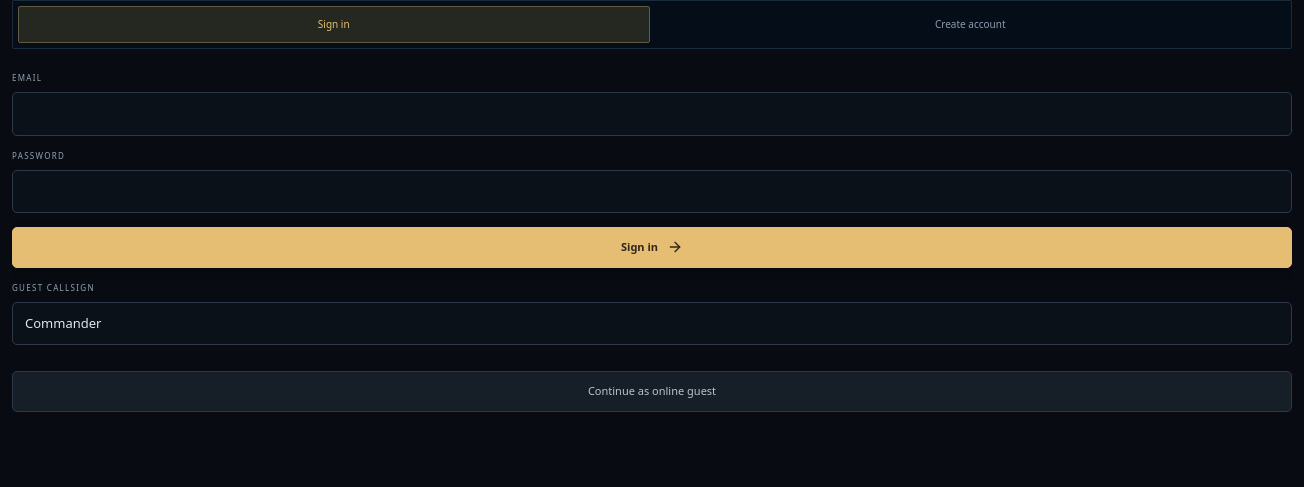
Test: does not show an unverified registration as a signed-in account
Click the button "Create account". click: [970, 24]
box: [654,6,1286,43]
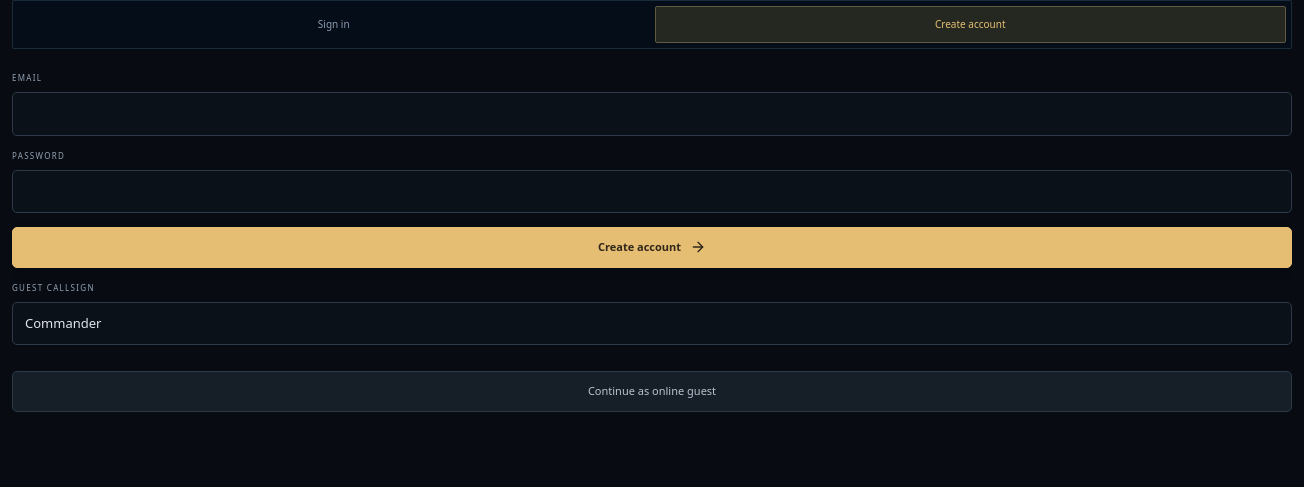
Type "qa@example.com" into the field labelled "EMAIL". click: [652, 114]
box: [12,92,1292,136]
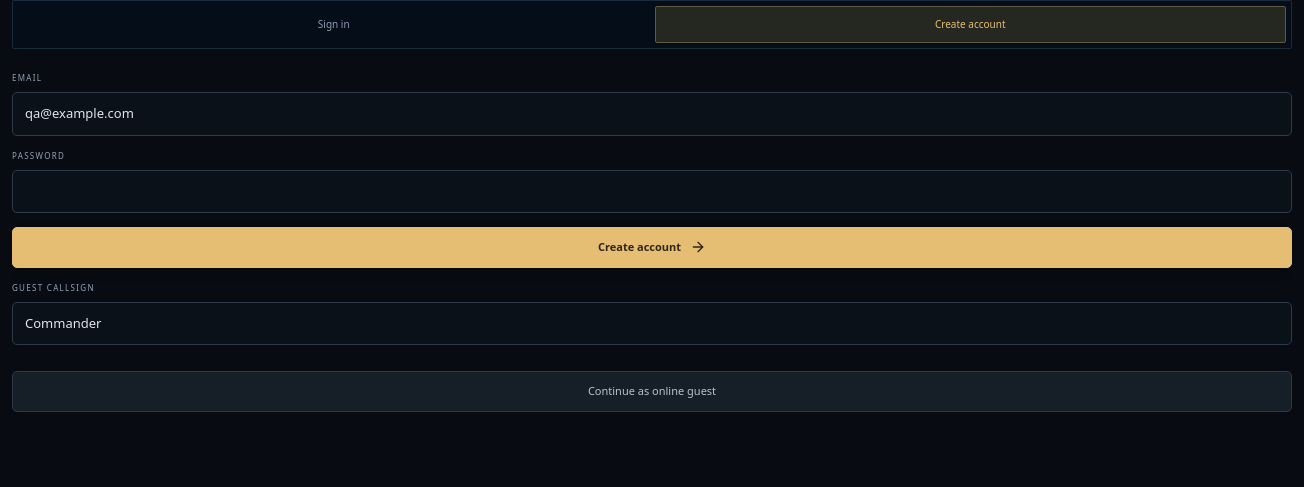
Type "testing-password" into the password field labelled "PASSWORD". click: [652, 191]
box: [12,170,1292,213]
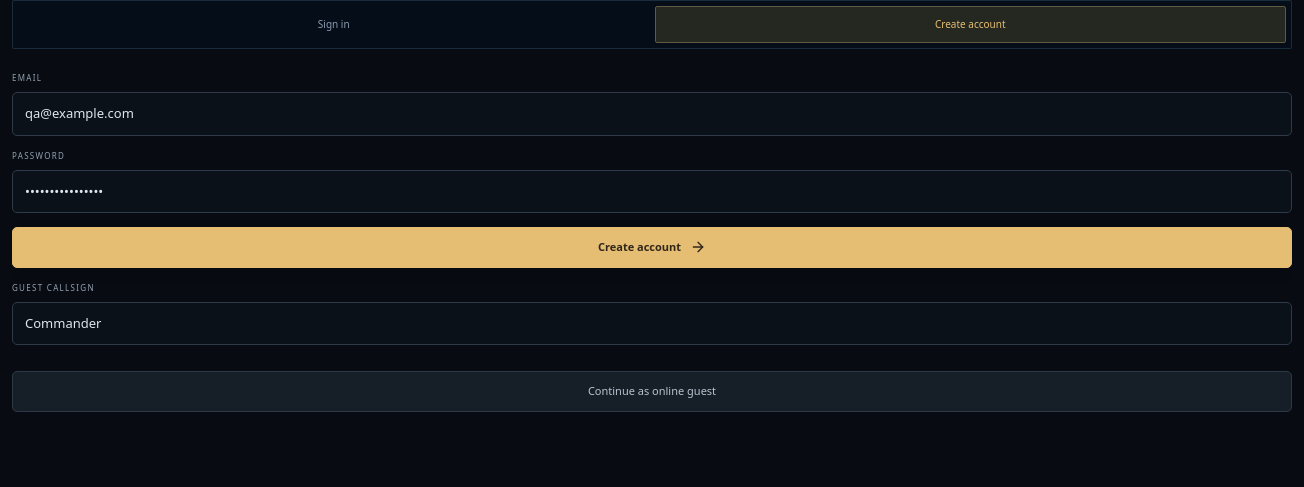
Submit the form, box [12,72,1292,268]
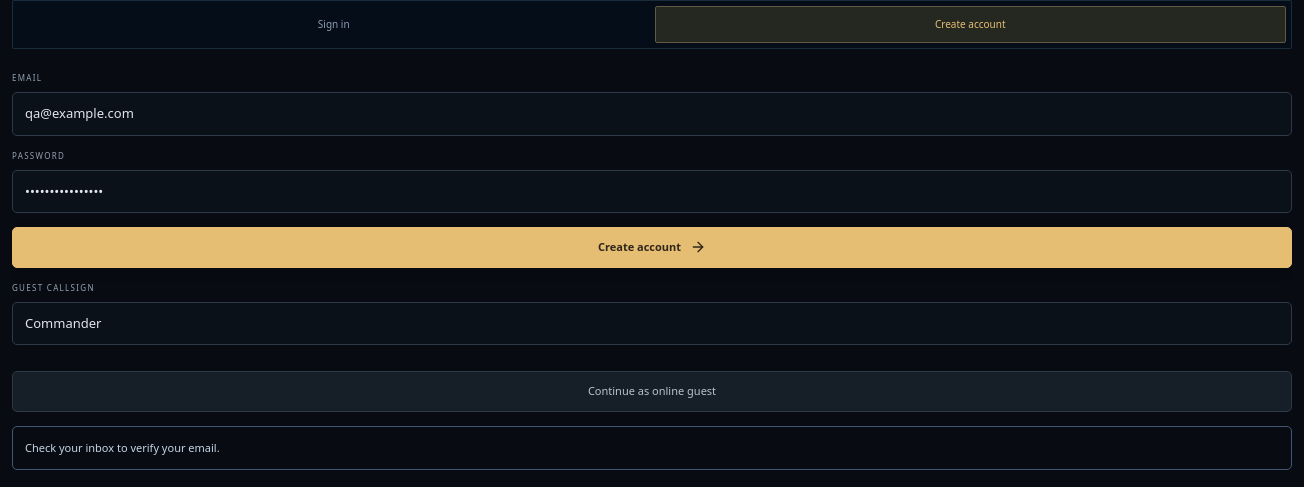
Result: the text "Check your inbox to verify your email." is shown at [12,426,1292,470]
